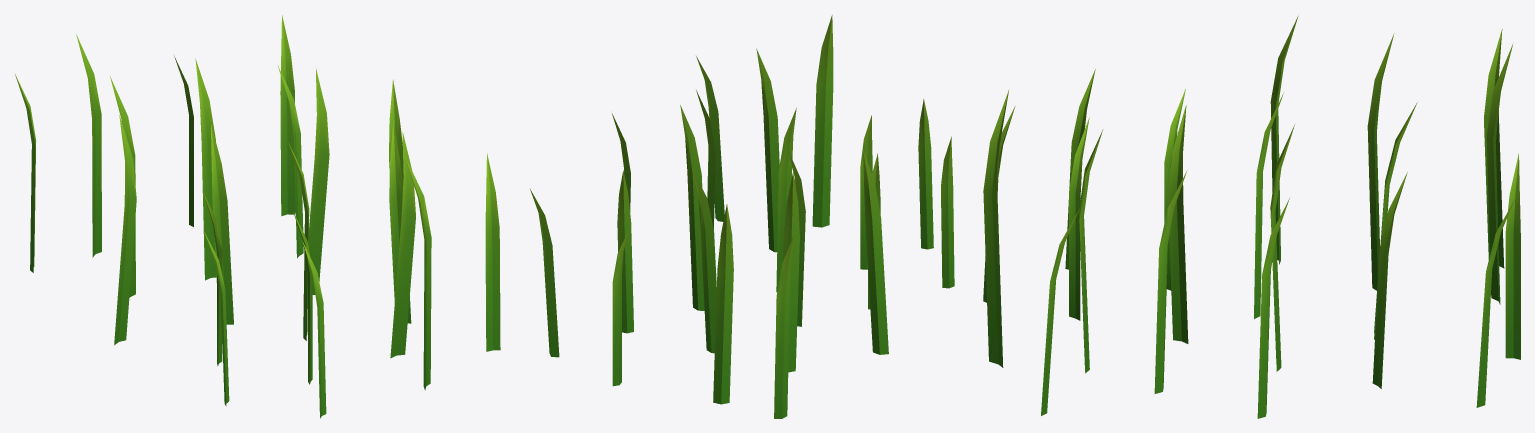
File: Reed2.fbx
3 renders of one model, left to right at view 1: azimuth 30°, elevation 25°; view 2: azimuth 150°, elevation 25°; view 3: azimuth 270°, elevation 25°, orthographic. The views are drawn at different scales.
Parts seen in each view (by area): view 1: pPlane97; view 2: pPlane97; view 3: pPlane97.
Part boxes in pixels (left/top/right/bottom): pPlane97: left=15, top=15, right=500, bottom=418; pPlane97: left=530, top=15, right=954, bottom=418; pPlane97: left=983, top=16, right=1520, bottom=418.
Bounding box in the file's own units: 2.8 × 2.15 × 3.93.
1 material, 1 textured.
